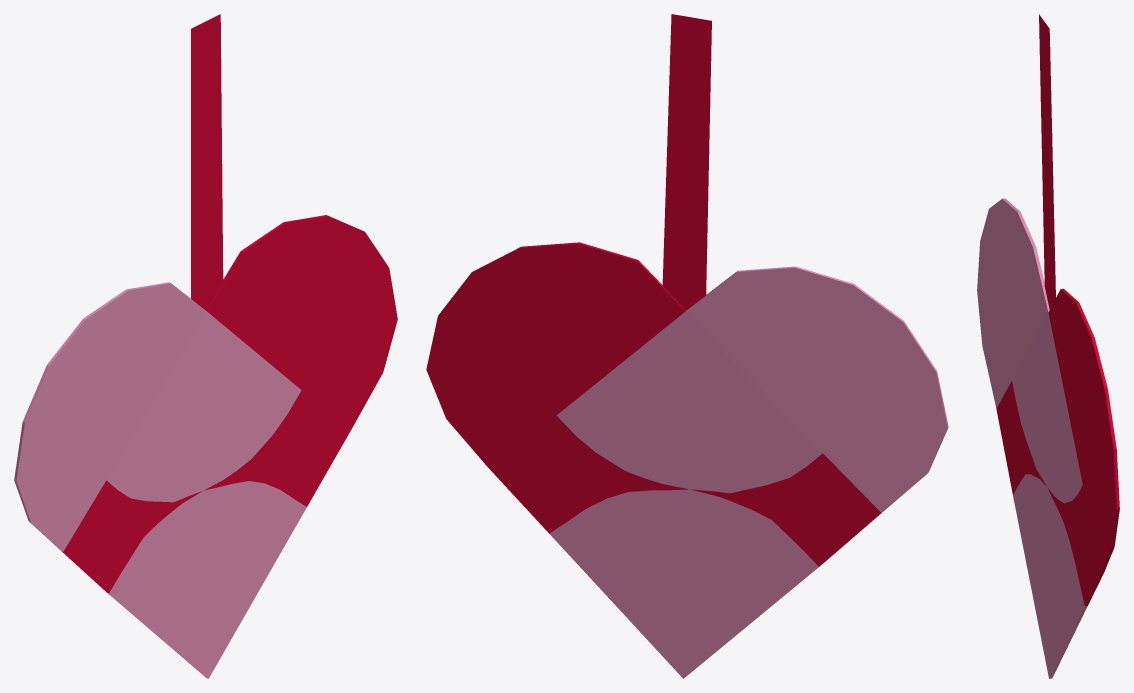
The model's file is heart12.glb.
3 renders of one model, left to right at view 1: azimuth 30°, elevation 25°; view 2: azimuth 150°, elevation 25°; view 3: azimuth 270°, elevation 25°, orthographic.
Visible parts, largest first — view 1: heart12; view 2: heart12; view 3: heart12.
Boxes of the visible parts, x1=… form: heart12: x1=14, y1=14, x2=397, y2=678; heart12: x1=426, y1=14, x2=948, y2=678; heart12: x1=977, y1=14, x2=1119, y2=678.
Size of the model in its own units: 0.132 by 0.1845 by 0.0364.
